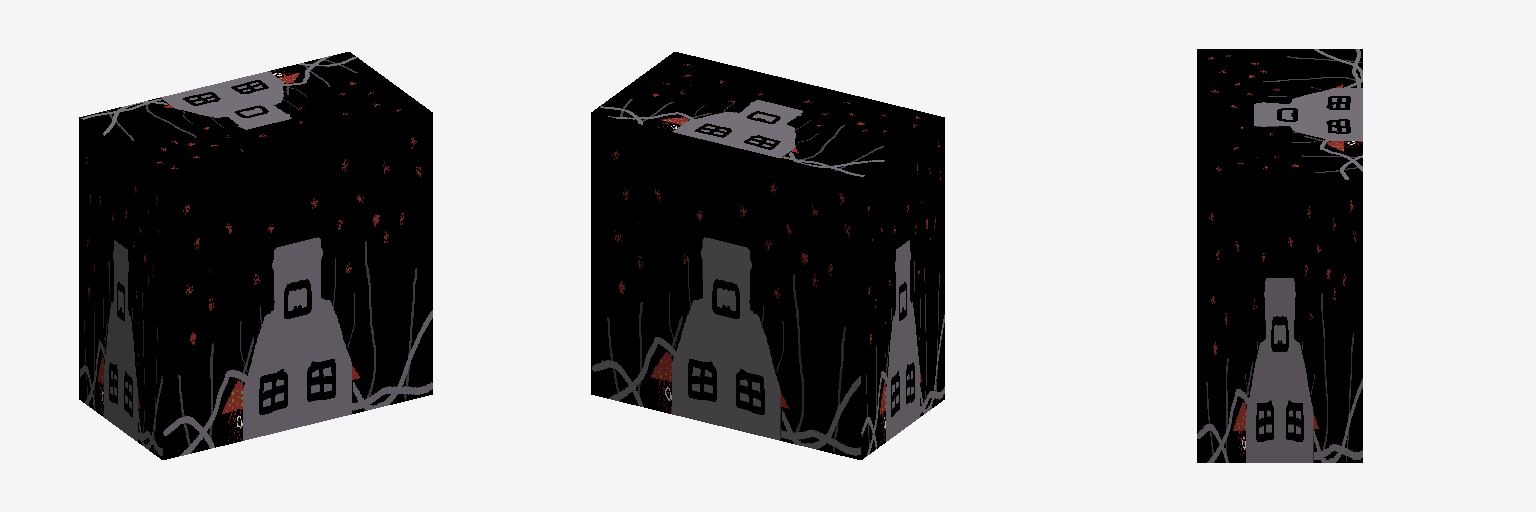
3 views of the same model, side by side, from view 1: azimuth 30°, elevation 25°; view 2: azimuth 150°, elevation 25°; view 3: azimuth 270°, elevation 25° (orthographic).
Parts seen in each view (by area): view 1: Cube.001; view 2: Cube.001; view 3: Cube.001.
Boxes of the visible parts, <box> form: Cube.001: <box>79,52,432,459</box>; Cube.001: <box>591,52,944,459</box>; Cube.001: <box>1197,49,1362,462</box>.
Bounding box in the file's own units: 2 × 2 × 1.07.
1 materials, 1 textured.